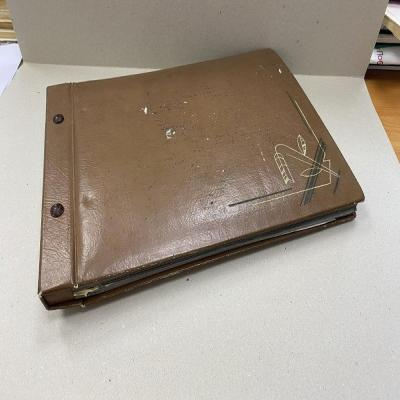other: (0, 35, 383, 398)
